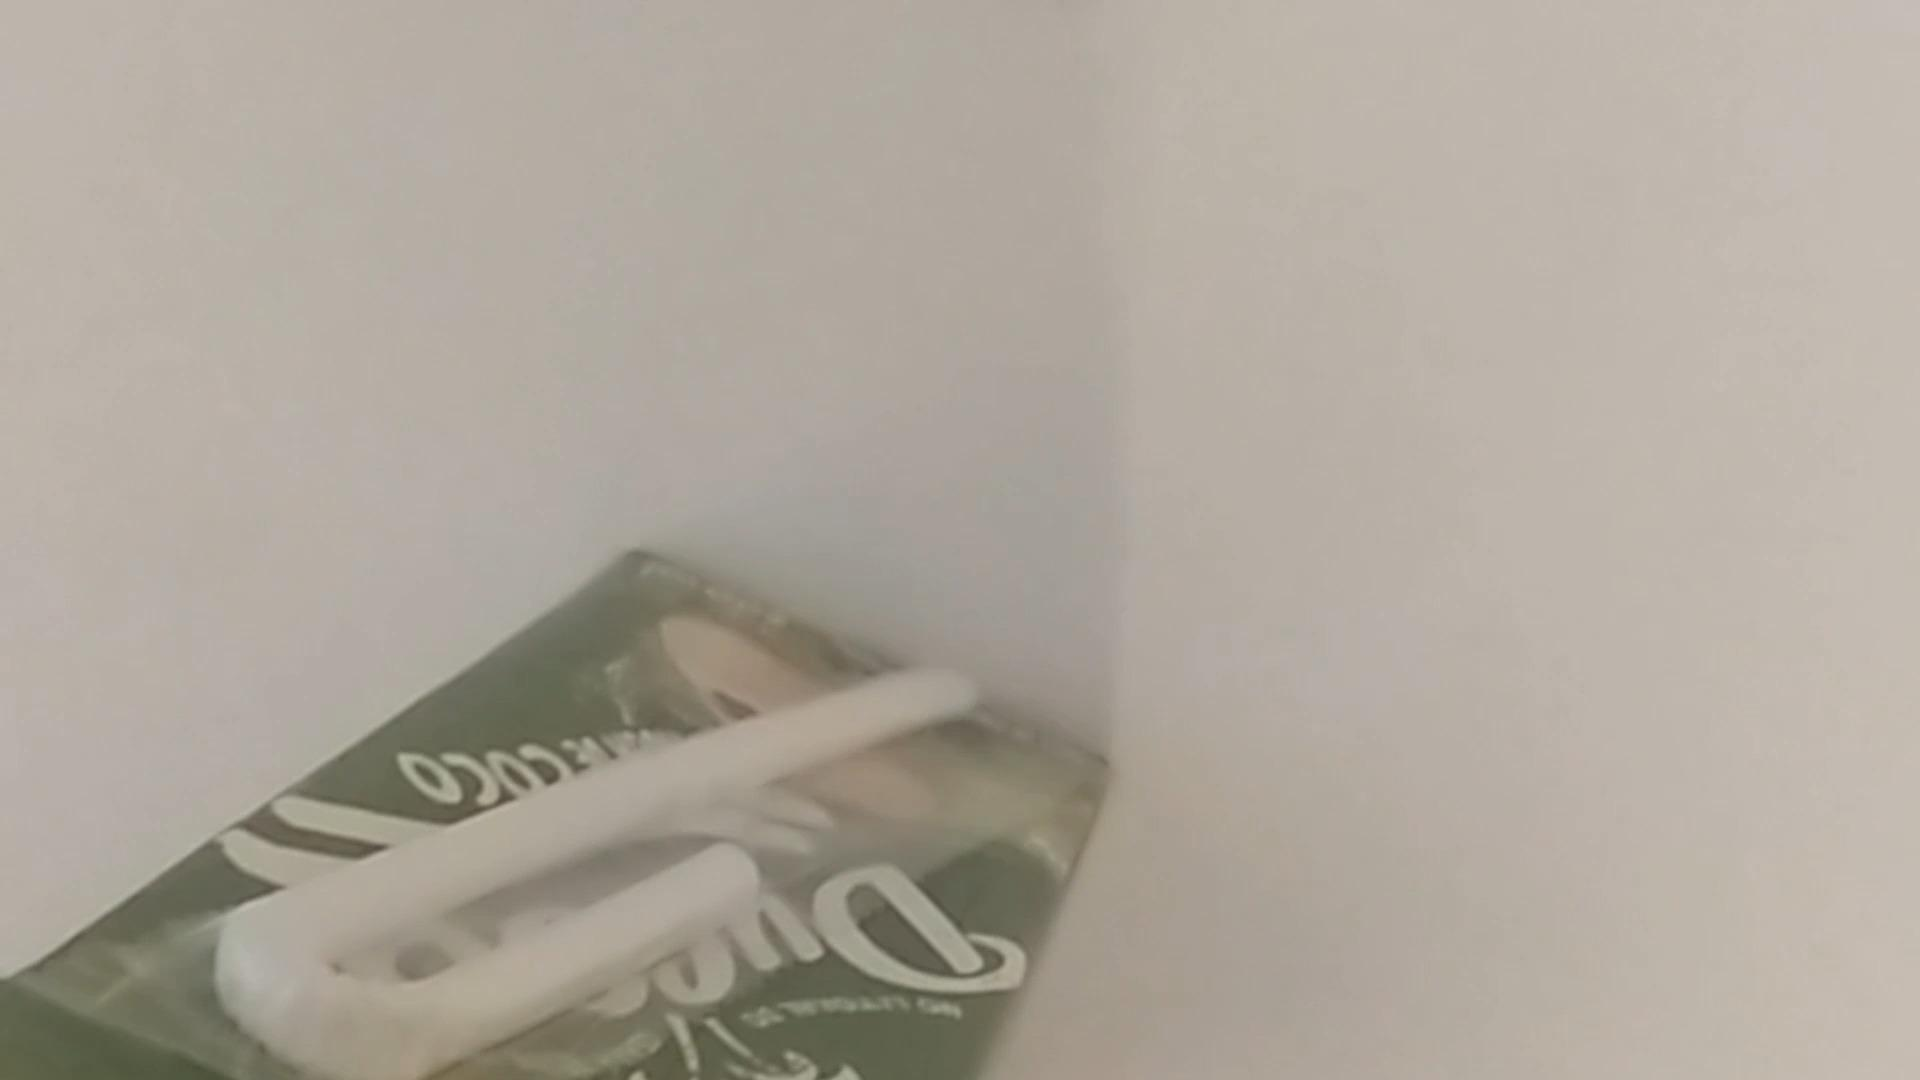coco: (7, 547, 1098, 1075)
